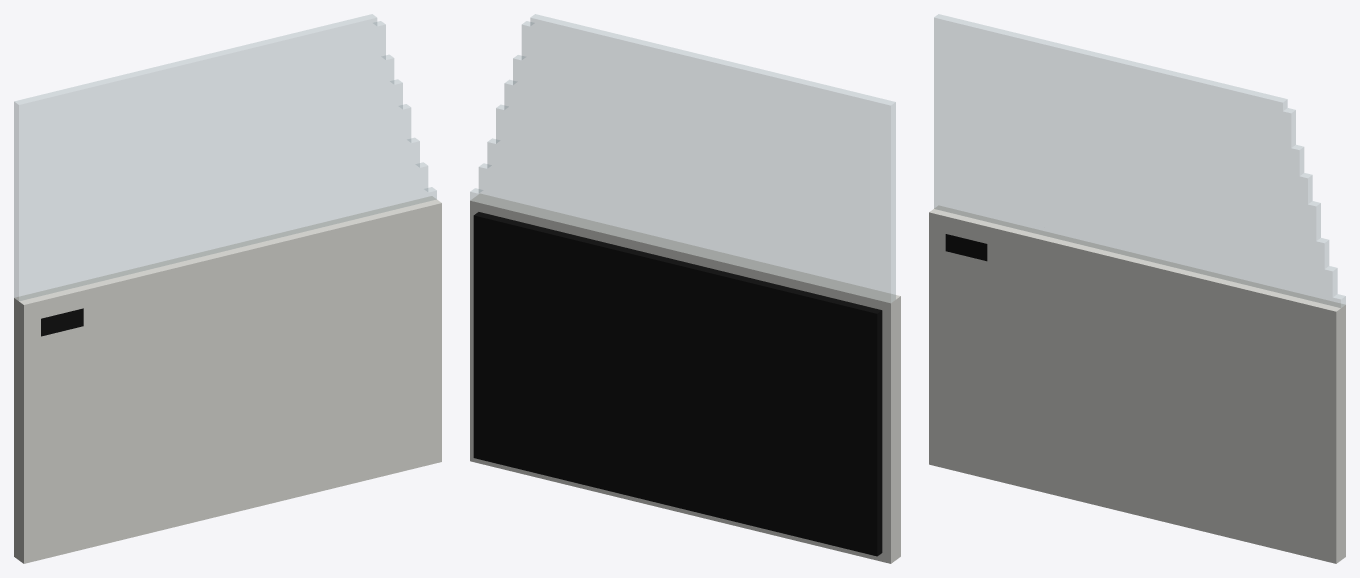
The model's file is street_sweeper_door.glb.
3 views of the same model, side by side, from view 1: azimuth 30°, elevation 25°; view 2: azimuth 150°, elevation 25°; view 3: azimuth 330°, elevation 25° (orthographic). The views are drawn at different scales.
Parts seen in each view (by area): view 1: body:compound; view 2: body:compound; view 3: body:compound.
Boxes of the visible parts, <box> form: body:compound: <box>14,14,441,563</box>; body:compound: <box>470,14,900,563</box>; body:compound: <box>929,14,1345,563</box>.
Size of the model in its own units: 1.53 by 1.59 by 0.0938.
